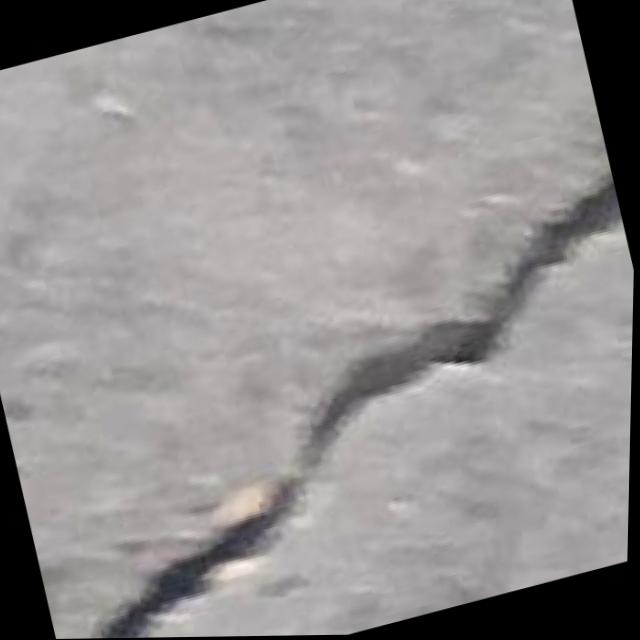Crack: (0, 163, 637, 640)
